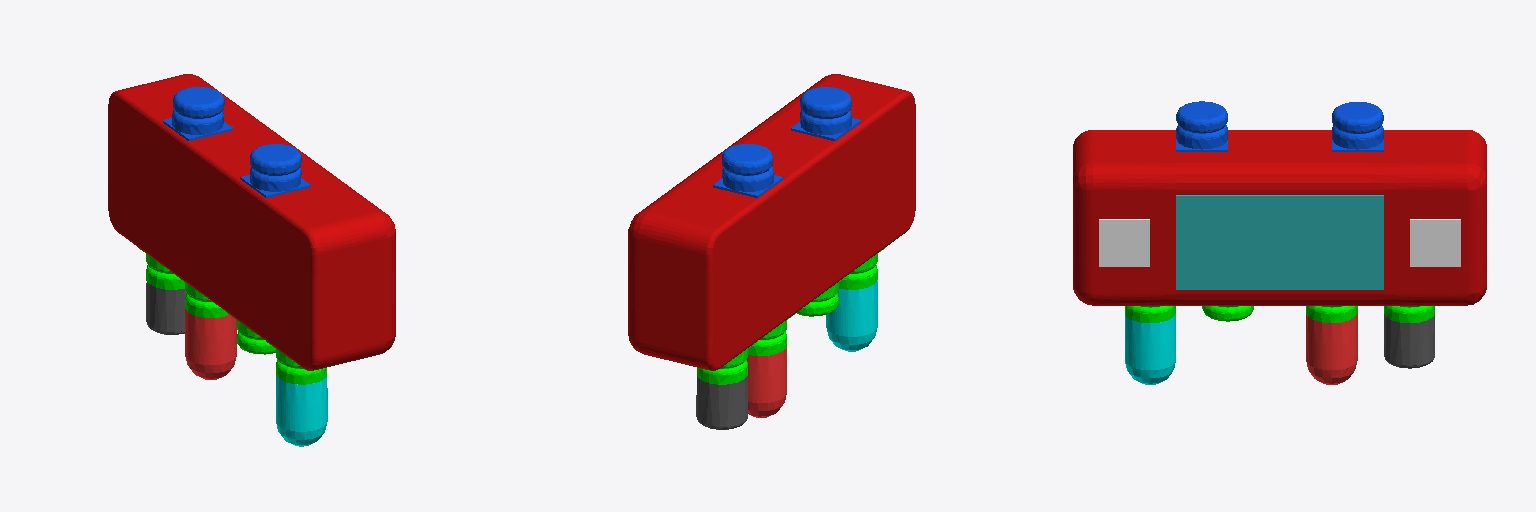
File: rasengan7.obj
3 renders of one model, left to right at view 1: azimuth 30°, elevation 25°; view 2: azimuth 150°, elevation 25°; view 3: azimuth 270°, elevation 25°, orthographic.
Bounding box in the file's own units: 1.27 × 3.58 × 4.94.